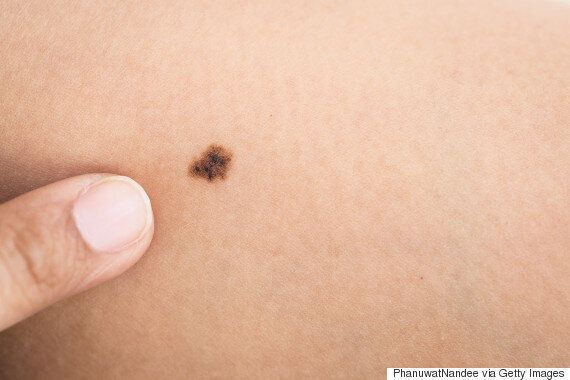melanoma: (143, 107, 266, 202)
